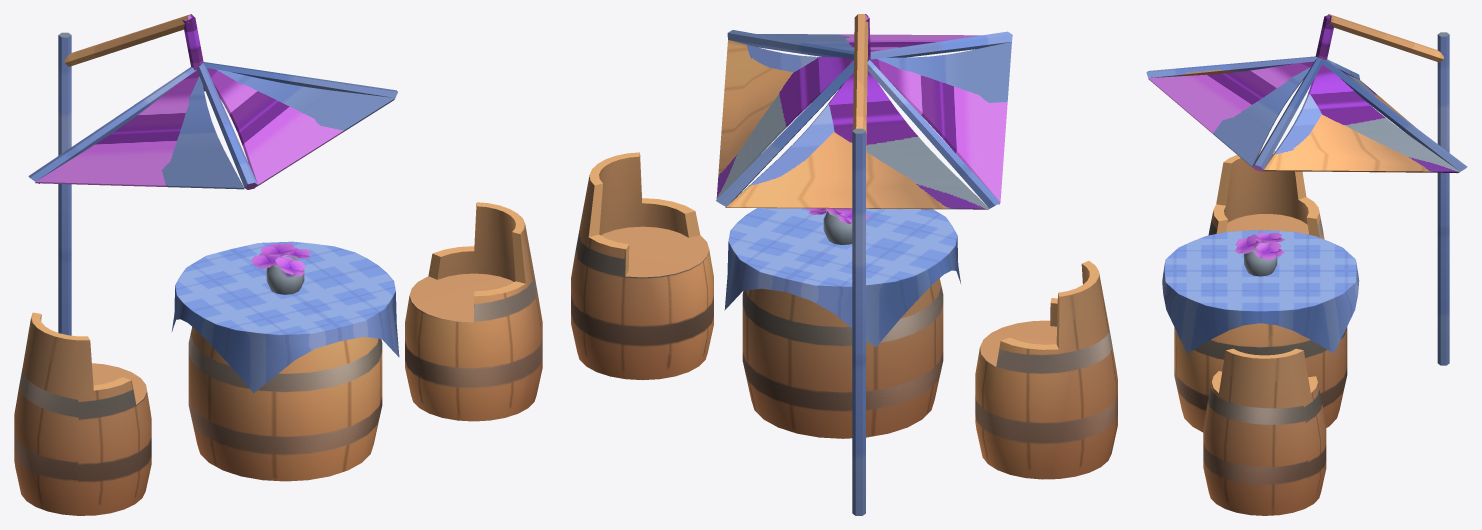
File: table_6.fbx
3 renders of one model, left to right at view 1: azimuth 30°, elevation 25°; view 2: azimuth 150°, elevation 25°; view 3: azimuth 270°, elevation 25°, orthographic. The views are drawn at different scales.
Parts seen in each view (by area): view 1: Cylinder.036, Cylinder.006, Cylinder.013, Cylinder.007, Plane.005, Cylinder.004; view 2: Cylinder.036, Cylinder.006, Cylinder.007, Cylinder.013, Plane.005, Cylinder.004; view 3: Cylinder.036, Cylinder.006, Plane.005, Cylinder.013, Cylinder.007, Cylinder.004, Circle.017.
Boxes of the visible parts, x1,y1,x2,y2 form: Cylinder.036: [28, 14, 397, 335]; Cylinder.006: [405, 202, 542, 421]; Cylinder.013: [188, 327, 382, 481]; Cylinder.007: [14, 312, 151, 515]; Plane.005: [171, 241, 399, 392]; Cylinder.004: [266, 256, 304, 294]; Cylinder.036: [716, 14, 1012, 515]; Cylinder.006: [571, 152, 713, 380]; Cylinder.007: [975, 261, 1117, 479]; Cylinder.013: [742, 278, 943, 438]; Plane.005: [724, 208, 960, 347]; Cylinder.004: [823, 211, 852, 244]; Cylinder.036: [1146, 14, 1467, 365]; Cylinder.006: [1203, 348, 1326, 515]; Plane.005: [1162, 230, 1359, 353]; Cylinder.013: [1174, 323, 1347, 432]; Cylinder.007: [1208, 151, 1324, 239]; Cylinder.004: [1244, 242, 1277, 276]; Circle.017: [1254, 242, 1283, 259].
Bounding box in the file's own units: 6.65 × 5.24 × 4.07.
